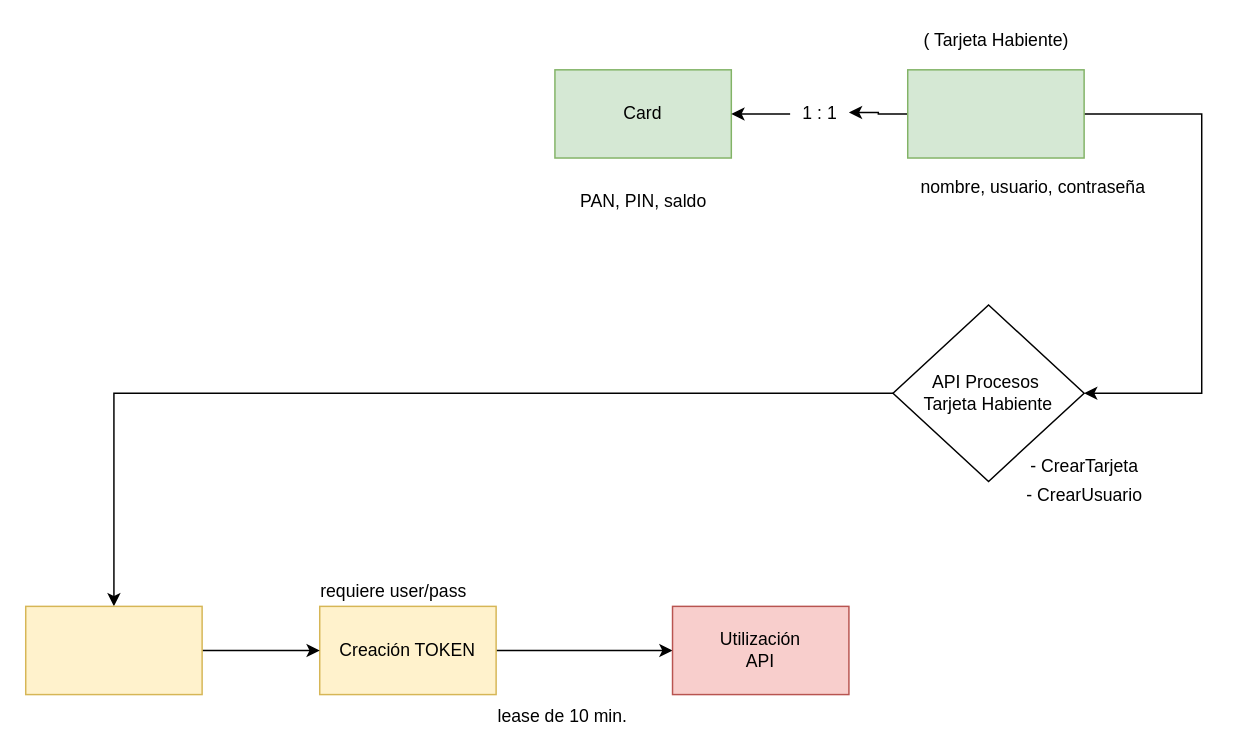
Image size: 1239x756. Some labels were removed from this diagram. Here are the shapes that lost their labels. From the top down, the box of each, then its label:
(906, 68, 1084, 158): User
(24, 605, 202, 695): Creación Usuario
